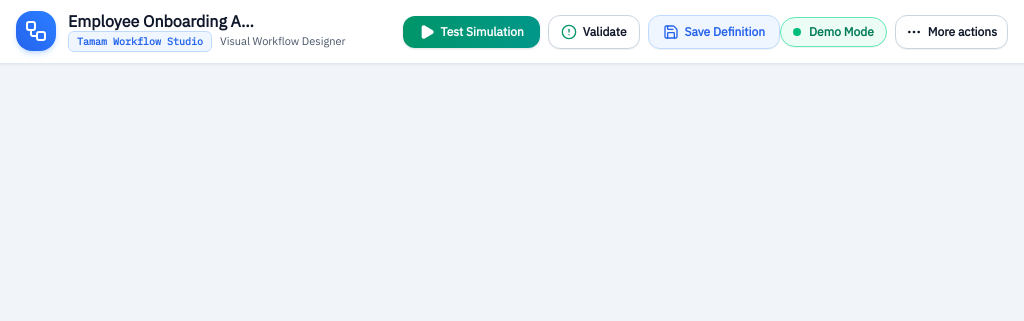
Test: HeaderToolbar UI & UX Refinements › closes overflow menu on Escape key press for keyboard accessibility
Click the button "More actions" at (951, 32), box x1=895 y1=14 x2=1008 y2=48
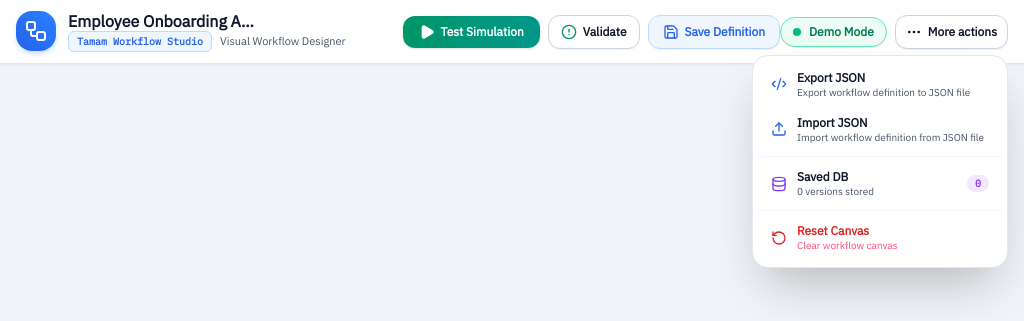
Expected: the menu item "Export JSON Export workflow definition to JSON file" is shown, x1=759 y1=62 x2=1001 y2=107
Note: Press Escape
Press Escape in the button "More actions", box x1=895 y1=14 x2=1008 y2=48
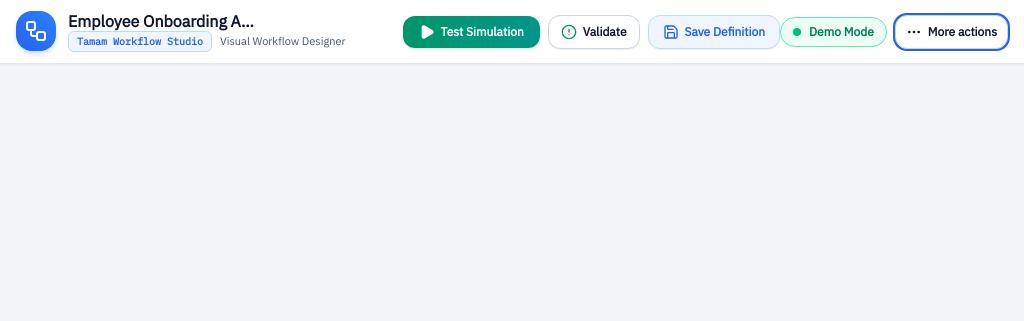
Expected: the menu item "Export JSON" is gone
